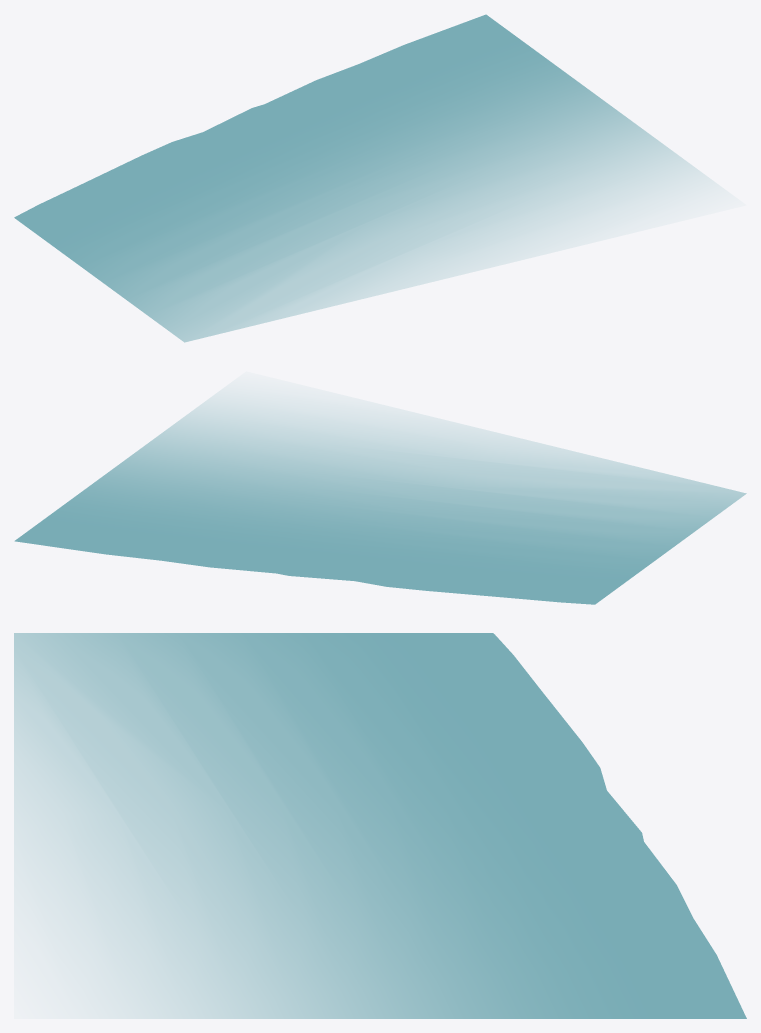
3 views of the same model, one above another, from view 1: azimuth 30°, elevation 25°; view 2: azimuth 150°, elevation 25°; view 3: azimuth 270°, elevation 25° (orthographic). The views are drawn at different scales.
Visible parts, largest first — view 1: city; view 2: city; view 3: city.
Boxes of the visible parts, left/top/right/bottom form: city: left=14, top=14, right=717, bottom=342; city: left=14, top=390, right=746, bottom=604; city: left=14, top=633, right=746, bottom=1018.
Size of the model in its own units: 500 by 0 by 402.
